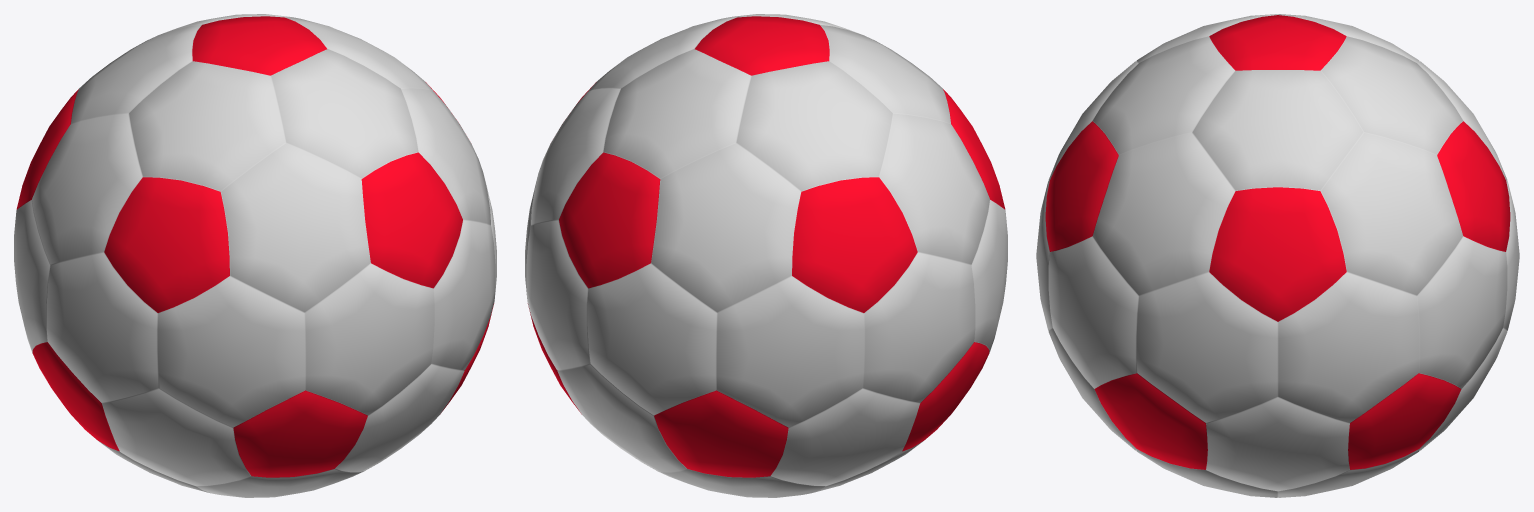
Rendered from RedSoccerBall.glb.
3 renders of one model, left to right at view 1: azimuth 30°, elevation 25°; view 2: azimuth 150°, elevation 25°; view 3: azimuth 270°, elevation 25°, orthographic.
Parts seen in each view (by area): view 1: Icosphere.001; view 2: Icosphere.001; view 3: Icosphere.001.
Part boxes in pixels (left/top/right/bottom): Icosphere.001: left=14, top=14, right=496, bottom=497; Icosphere.001: left=525, top=14, right=1007, bottom=497; Icosphere.001: left=1036, top=14, right=1519, bottom=497.
Size of the model in its own units: 1.85 by 1.86 by 1.85.
